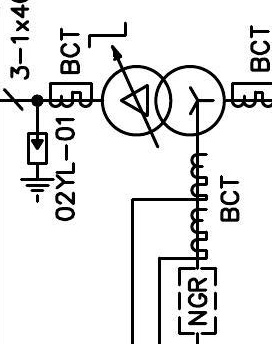11522_tx_dyn1: (100, 64, 227, 137)
115_la: (19, 131, 56, 204)
